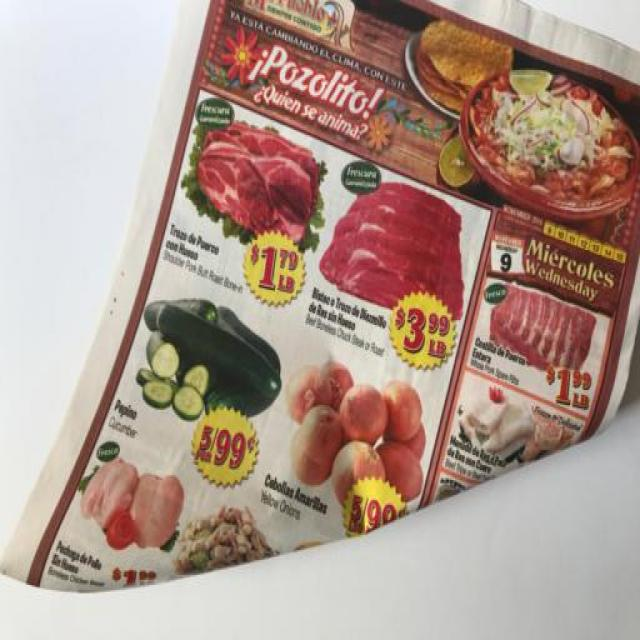paper: (4, 4, 640, 599)
